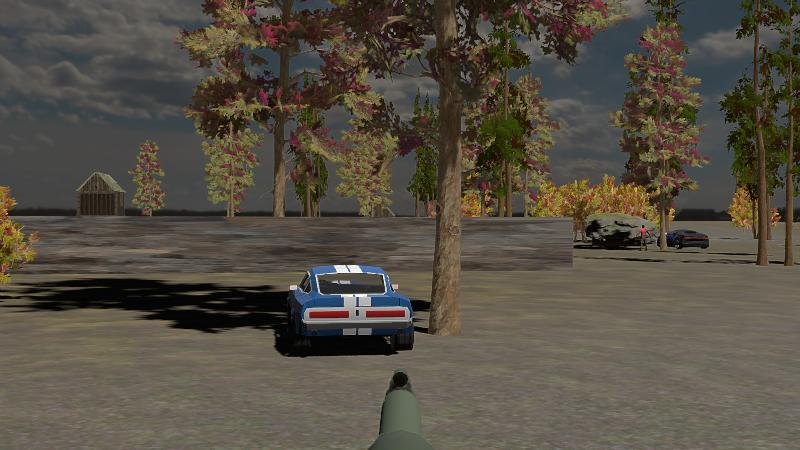House: (75, 169, 126, 219)
Human: (638, 224, 651, 253)
car: (284, 261, 416, 353), (664, 228, 711, 251)
